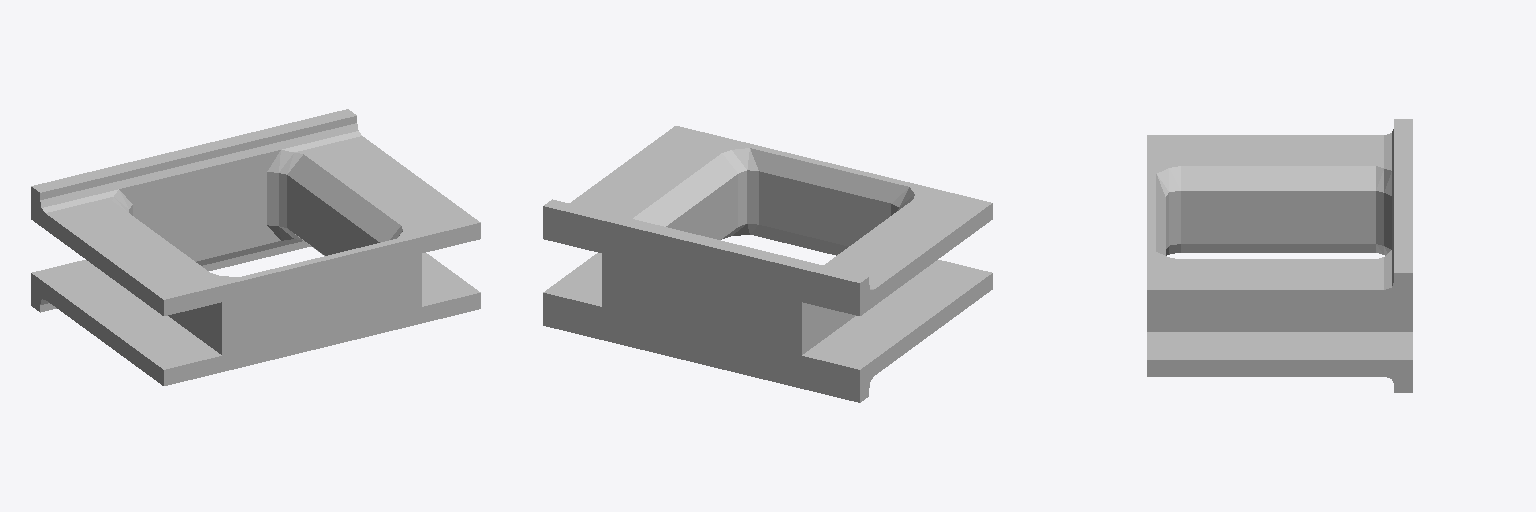
Rendered from Doorway.obj.
3 views of the same model, side by side, from view 1: azimuth 30°, elevation 25°; view 2: azimuth 150°, elevation 25°; view 3: azimuth 270°, elevation 25° (orthographic).
Visible parts, largest first — view 1: SM_Doorway_Basic_E; view 2: SM_Doorway_Basic_E; view 3: SM_Doorway_Basic_E.
Boxes of the visible parts, <box> form: SM_Doorway_Basic_E: <box>31,109,480,385</box>; SM_Doorway_Basic_E: <box>543,126,992,402</box>; SM_Doorway_Basic_E: <box>1147,119,1412,392</box>.
Size of the model in its own units: 157 by 56.83 by 114.